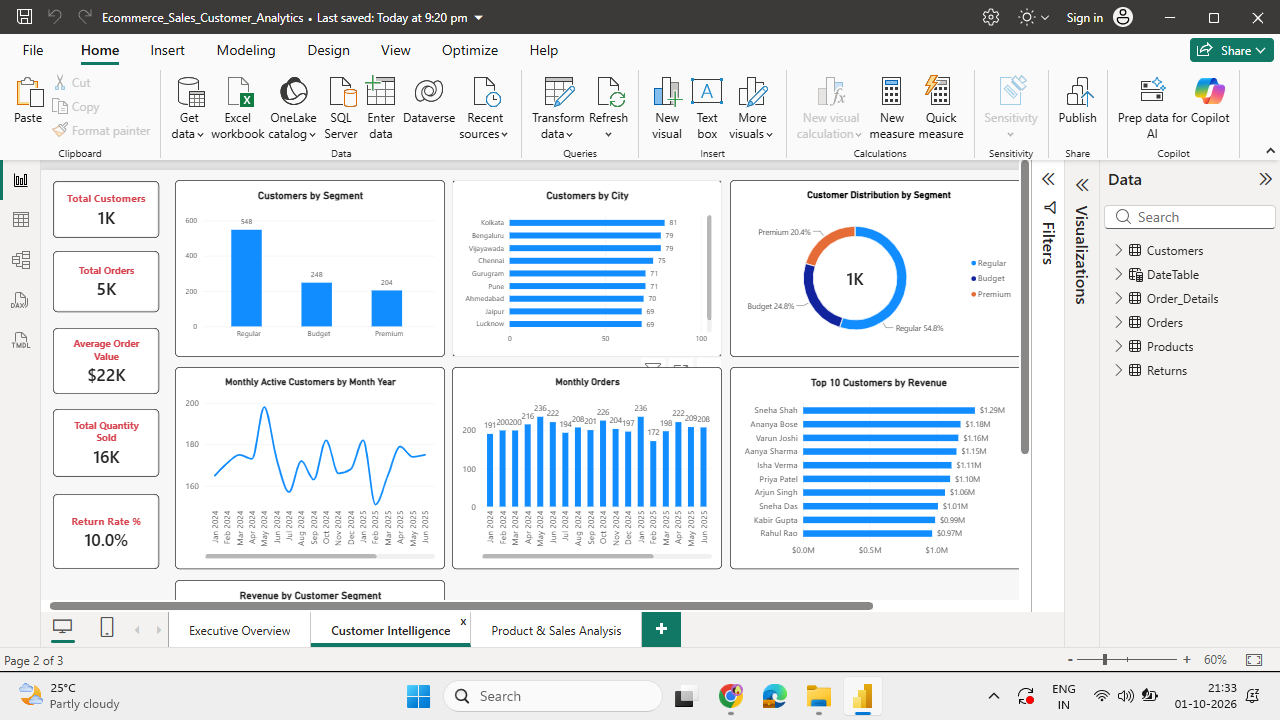

What the dashboard file says about the page in this screenshot:
{"tool":"powerbi","page":{"name":"Customer Intelligence","canvas":[1920,1080],"ordinal":1},"visuals":[{"type":"cardVisual","fields":{"Data":["Customers.Total Customers"]},"box":[21.7,18.3,176.7,95],"z":0},{"type":"cardVisual","fields":{"Data":["Orders.Total Orders"]},"box":[21.7,135,176.7,101.7],"z":1000},{"type":"cardVisual","fields":{"Data":["Orders.Average Order Value"]},"box":[21.7,263.3,176.7,110],"z":2000},{"type":"cardVisual","fields":{"Data":["Order_Details.Total Quantity Sold"]},"box":[21.7,398.3,176.7,113.3],"z":3000},{"type":"cardVisual","fields":{"Data":["Orders.Return Rate %"]},"box":[21.7,540,176.7,125],"z":4000},{"type":"clusteredColumnChart","title":"Customers by Segment","fields":{"Category":["Customers.Customer_Segment"],"Y":["Customers.Total Customers"]},"box":[225,16.7,450,295],"z":5000},{"type":"clusteredBarChart","title":"Customers by City","fields":{"Category":["Customers.City"],"Y":["Customers.Total Customers"]},"box":[686.7,16.7,450,295],"z":6000},{"type":"lineChart","fields":{"Category":["DateTable.Month Year"],"Y":["Orders.Monthly Active Customers"]},"box":[225,328.3,450,336.7],"z":7000},{"type":"clusteredColumnChart","title":"Monthly Orders","fields":{"Category":["DateTable.Month Year"],"Y":["Orders.Total Orders"]},"box":[686.7,328.3,450,336.7],"z":8000},{"type":"clusteredBarChart","title":"Top 10 Customers by Revenue","fields":{"Category":["Customers.Customer_Name"],"Y":["Order_Details.Total Revenue"]},"box":[1150,328.3,495,336.7],"z":9000},{"type":"donutChart","title":"Customer Distribution by Segment","fields":{"Category":["Customers.Customer_Segment"],"Y":["Customers.Total Customers"]},"box":[1150,16.7,495,295],"z":10000},{"type":"slicer","title":"State Filter","fields":{"Values":["Customers.State"]},"box":[1656.7,16.7,243,295],"z":11000},{"type":"slicer","title":"Customer Segment Filter","fields":{"Values":["Customers.Customer_Segment"]},"box":[1656.7,328.3,243.3,183.3],"z":12000},{"type":"cardVisual","fields":{"Data":["Order_Details.Total Profit"]},"box":[1656.7,526.7,243.3,76.7],"z":13000},{"type":"cardVisual","fields":{"Data":["Order_Details.Profit Margin %"]},"box":[1656.7,606.7,243.3,76.7],"z":14000},{"type":"clusteredColumnChart","title":"Revenue by Customer Segment","fields":{"Category":["Customers.Customer_Segment"],"Y":["Order_Details.Total Revenue"]},"box":[225,683.3,450,350],"z":15000}]}

Visuals, with their boxes on the page's 1920x1080 design canvas (x1, y1, x2, y2). These are canvas units, not pixel positions in the 1280x720 screenshot, which may show the page scaled, cropped or inside an application window:
cardVisual - Customers.Total Customers: 22, 18, 198, 113
cardVisual - Orders.Total Orders: 22, 135, 198, 237
cardVisual - Orders.Average Order Value: 22, 263, 198, 373
cardVisual - Order_Details.Total Quantity Sold: 22, 398, 198, 512
cardVisual - Orders.Return Rate %: 22, 540, 198, 665
"Customers by Segment" clusteredColumnChart: 225, 17, 675, 312
"Customers by City" clusteredBarChart: 687, 17, 1137, 312
lineChart - DateTable.Month Year x Orders.Monthly Active Customers: 225, 328, 675, 665
"Monthly Orders" clusteredColumnChart: 687, 328, 1137, 665
"Top 10 Customers by Revenue" clusteredBarChart: 1150, 328, 1645, 665
"Customer Distribution by Segment" donutChart: 1150, 17, 1645, 312
"State Filter" slicer: 1657, 17, 1900, 312
"Customer Segment Filter" slicer: 1657, 328, 1900, 512
cardVisual - Order_Details.Total Profit: 1657, 527, 1900, 603
cardVisual - Order_Details.Profit Margin %: 1657, 607, 1900, 683
"Revenue by Customer Segment" clusteredColumnChart: 225, 683, 675, 1033
